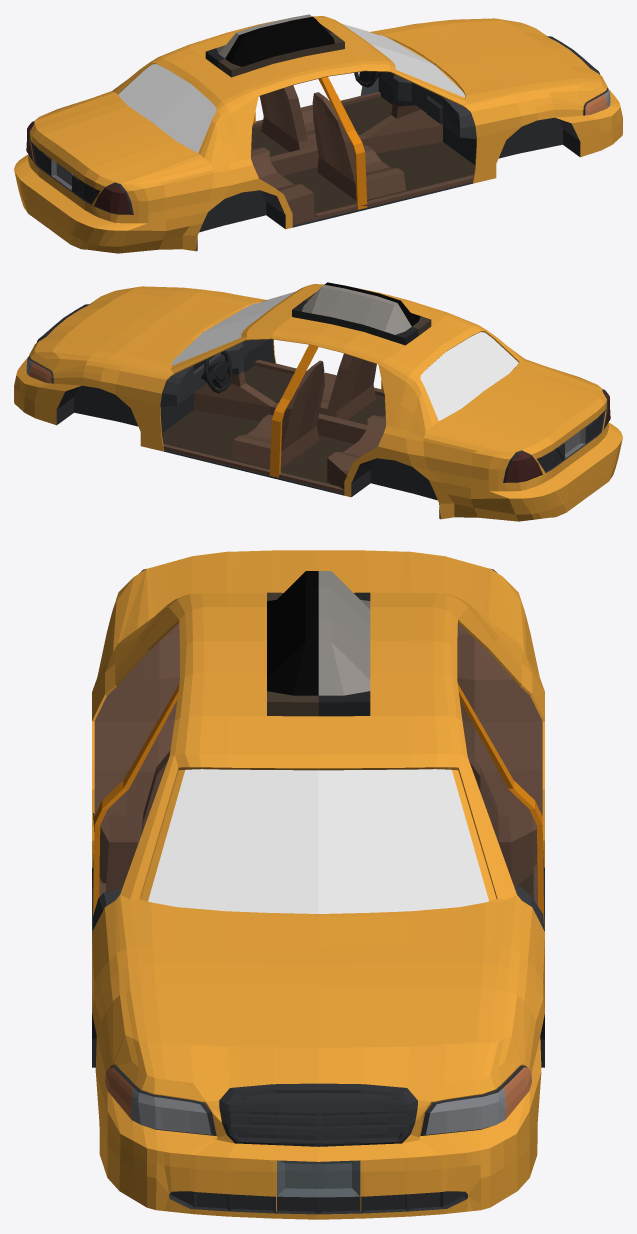
File: cab.glb
3 renders of one model, top to bottom at view 1: azimuth 30°, elevation 25°; view 2: azimuth 150°, elevation 25°; view 3: azimuth 270°, elevation 25°, orthographic. The views are drawn at different scales.
Parts seen in each view (by area): view 1: Carcase.001; view 2: Carcase.001; view 3: Carcase.001.
Boxes of the visible parts, x1,y1,x2,y2 form: Carcase.001: (14,14,622,253); Carcase.001: (14,282,622,521); Carcase.001: (92,550,544,1219).
Bounding box in the file's own units: 4.99 × 1.35 × 1.8.
Materials: 3 (1 with a texture image).
